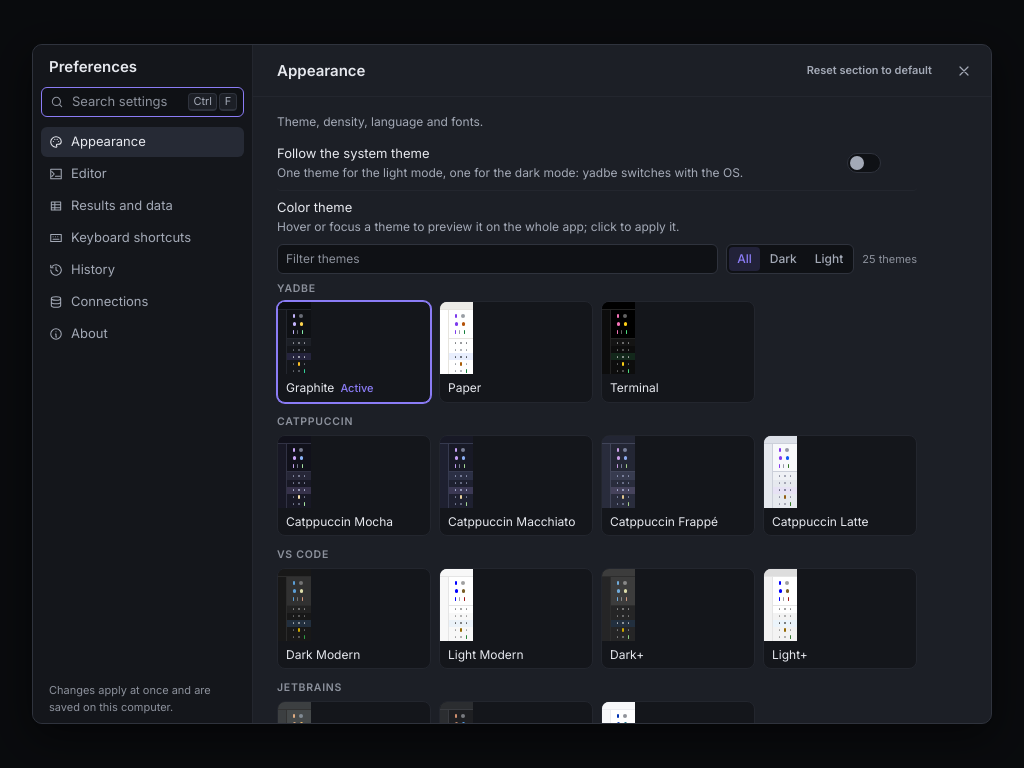
Scenario: the preferences screen › commits a number on blur, clamped to its range
Click the button "History" at [142, 270], box [41, 254, 244, 284]
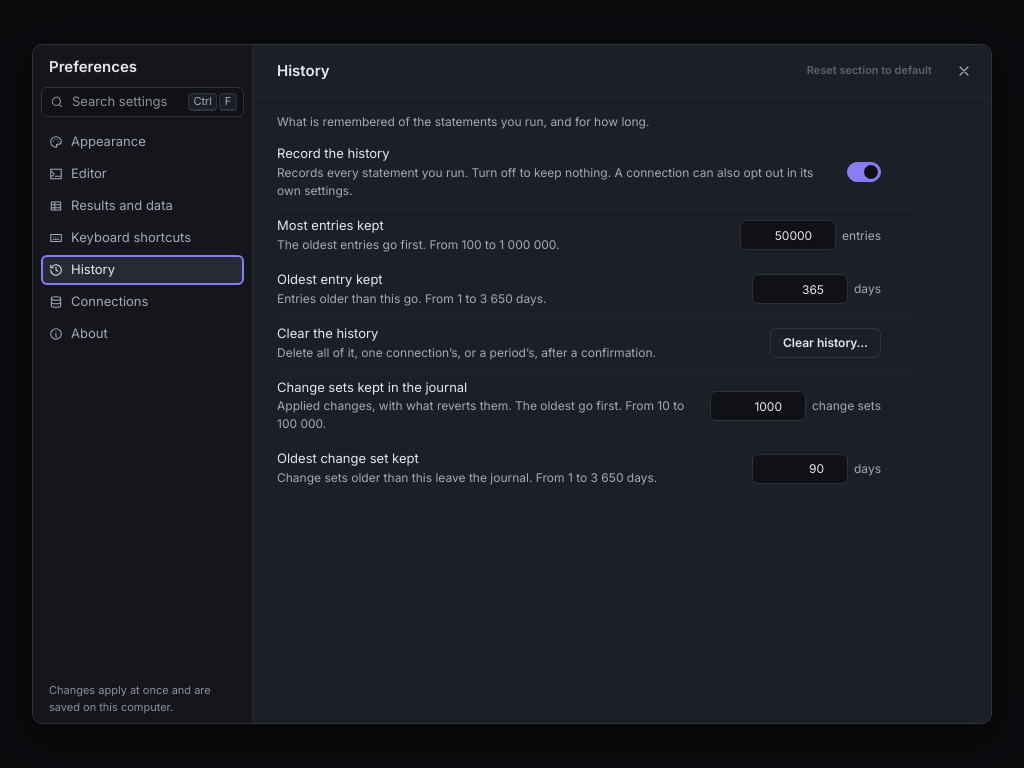
Replace the text in the number field labelled "Most entries kept" with "5" at [788, 235], box [740, 220, 836, 250]
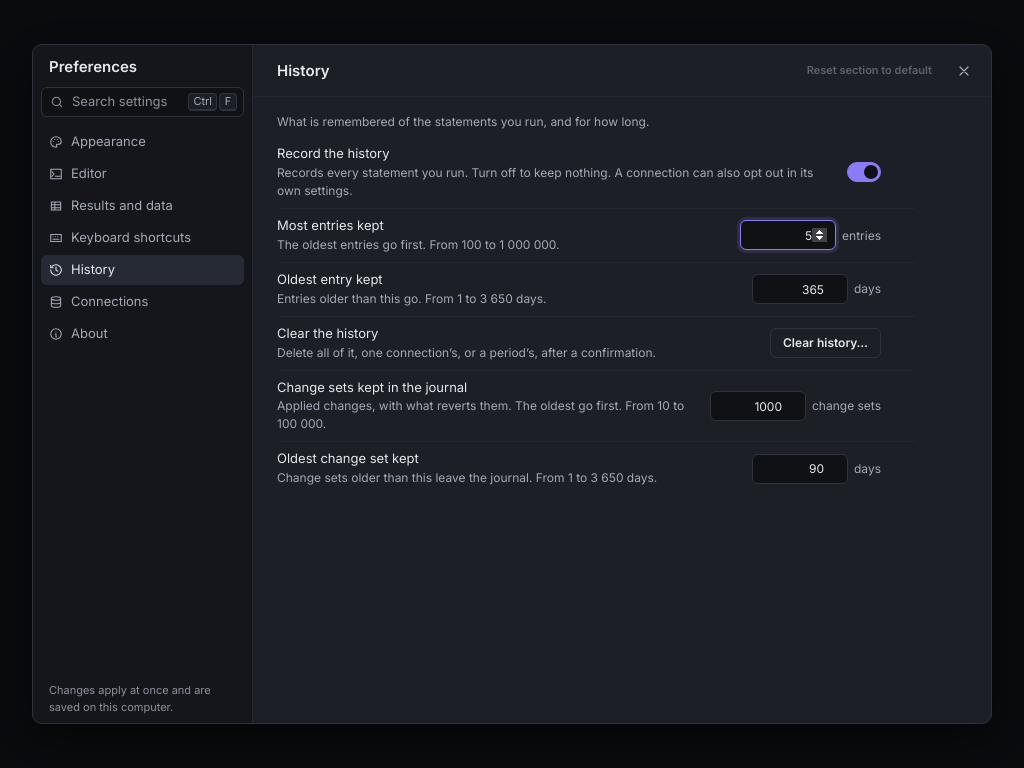
Press Tab
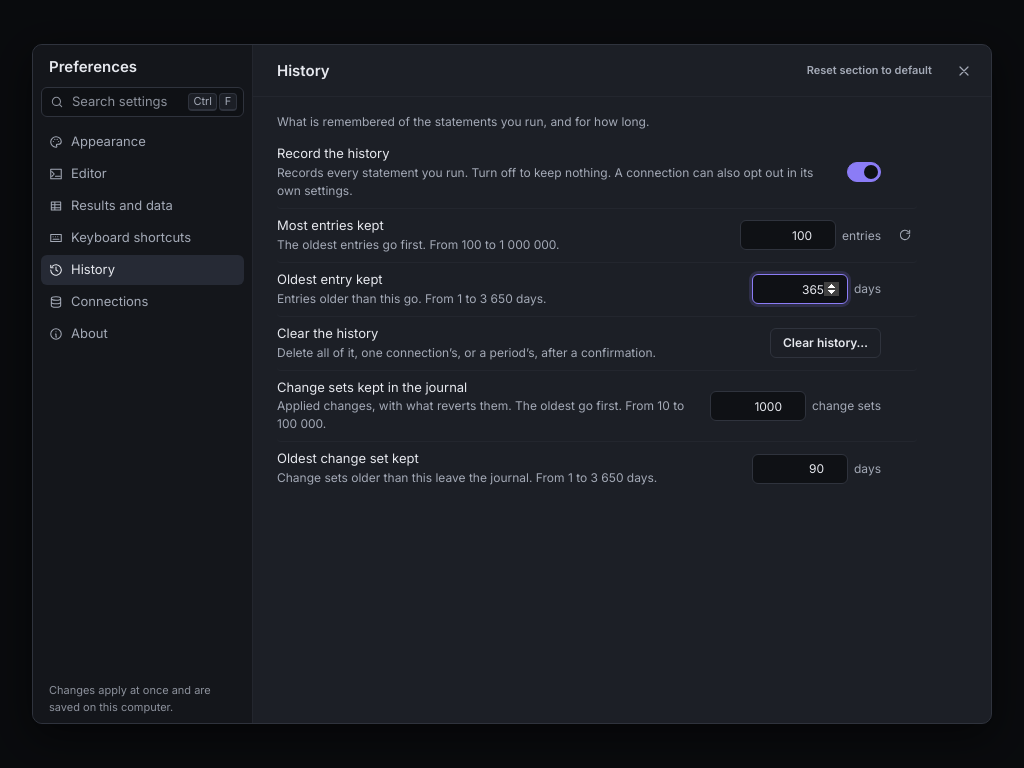
Expected: the number field labelled "Most entries kept" holds "100", [740, 220, 836, 250]
